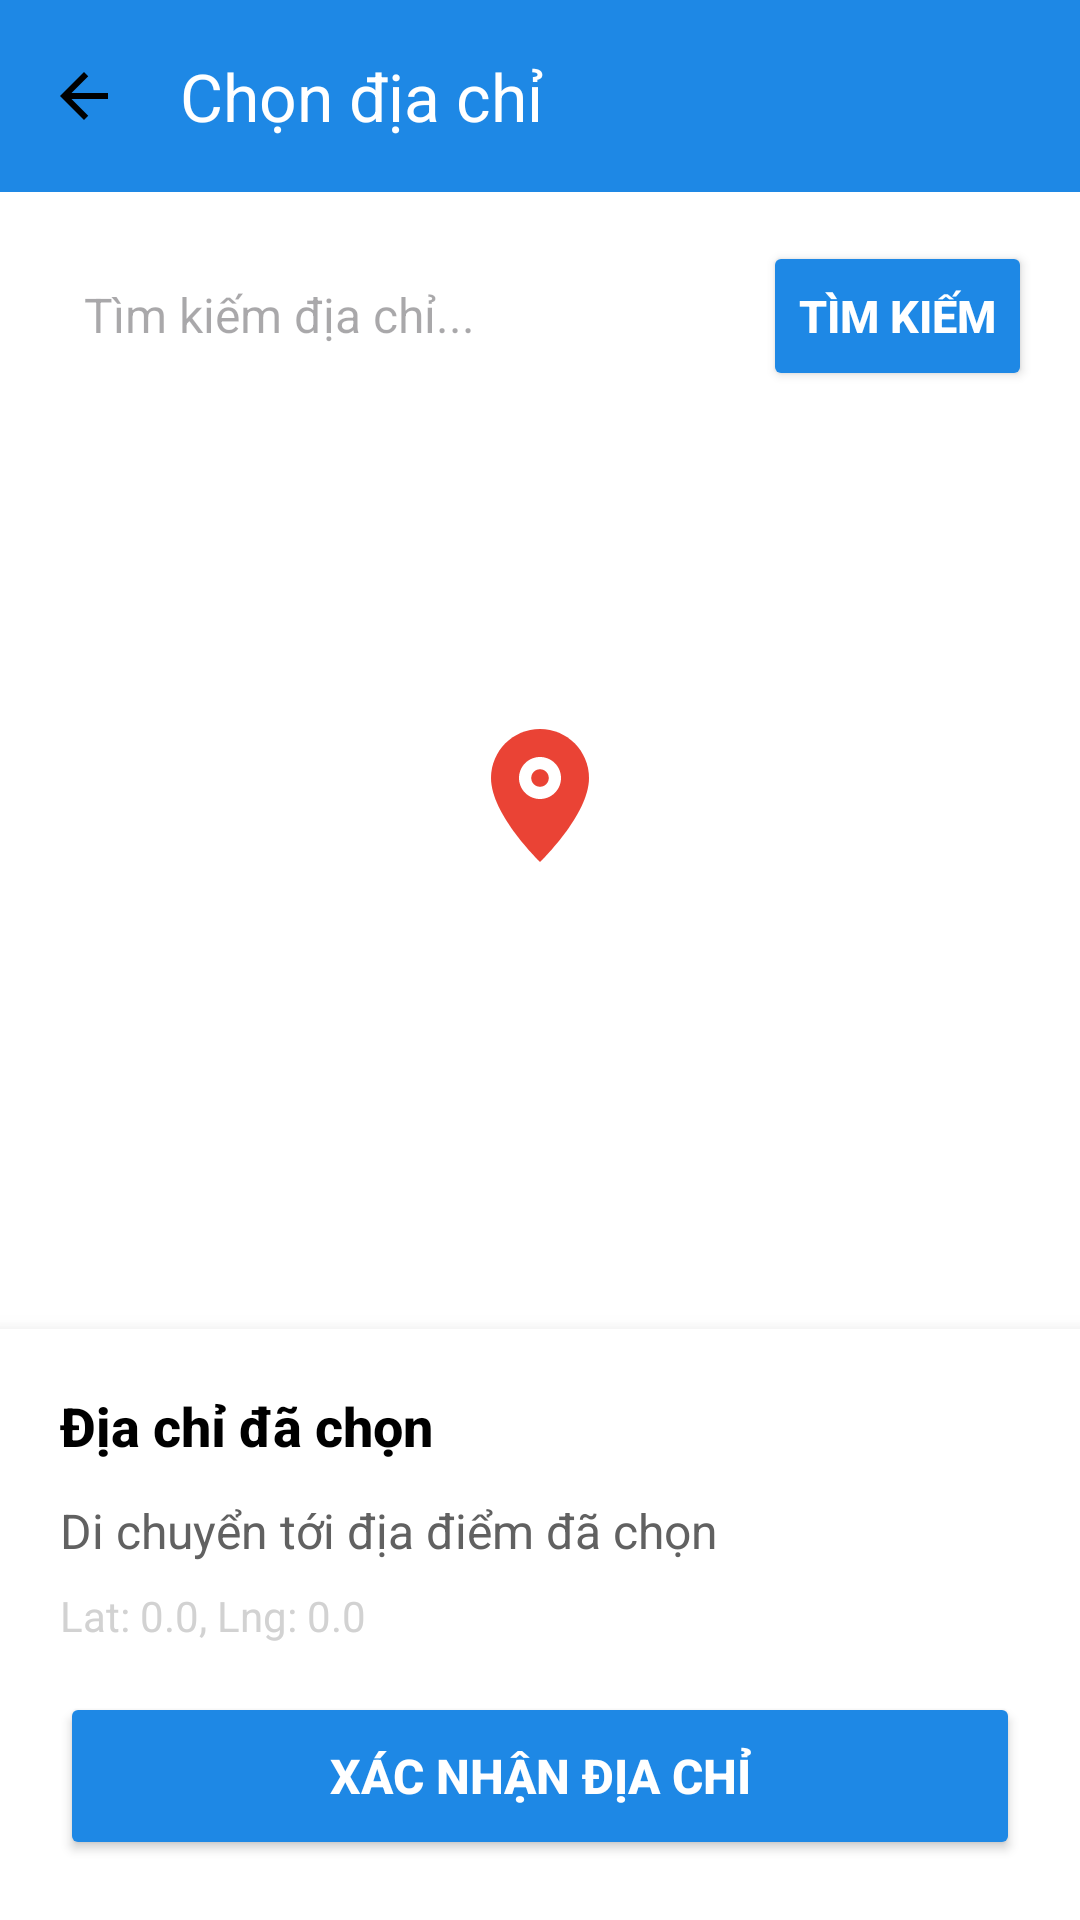

Where to tap for icons on this 1080 x 1920 app screen, as point (x, y):
location pin: point (540, 795)
